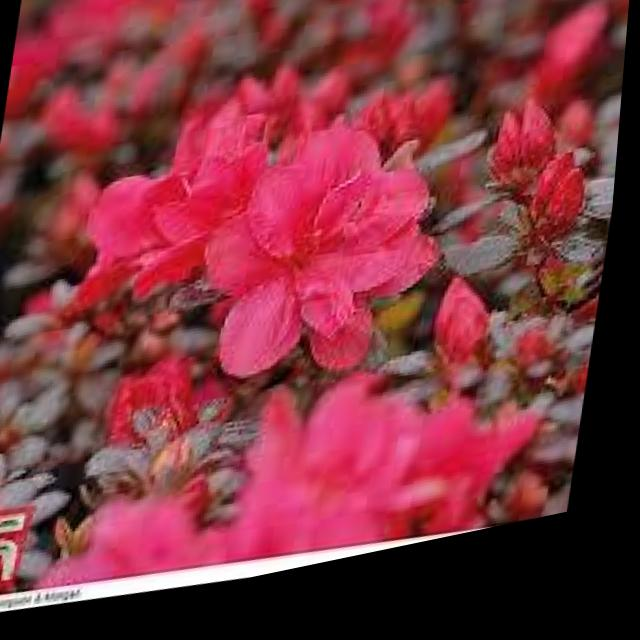Flower: (201, 118, 461, 418), (109, 74, 360, 325)
